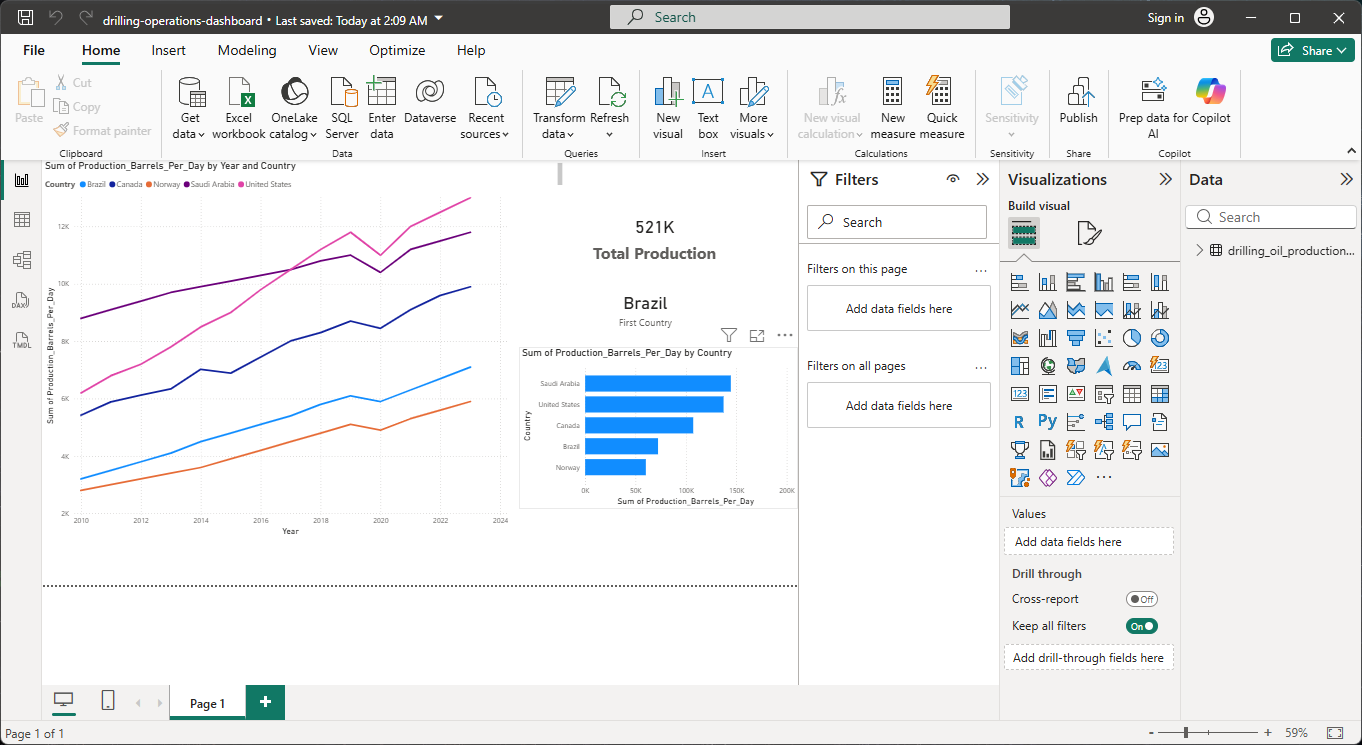

The page's visual inventory and layout, read from the dashboard file:
{"tool":"powerbi","page":{"name":"Page 1","canvas":[1280,720],"ordinal":0},"visuals":[{"type":"card","fields":{"Values":["Min(drilling_oil_production_dataset.Country)"]},"box":[763.6,199.8,516.4,101.6],"z":0},{"type":"textbox","box":[100,100,300,300],"z":1000},{"type":"textbox","box":[99.9,164.2,106.7,235.3],"z":2000},{"type":"textbox","box":[0,0,885.5,55.9],"z":3000},{"type":"card","fields":{"Values":["Sum(drilling_oil_production_dataset.Production_Barrels_Per_Day)"]},"box":[794.1,42.3,485.9,176.1],"z":4000},{"type":"lineChart","fields":{"Y":["Sum(drilling_oil_production_dataset.Production_Barrels_Per_Day)"],"Category":["drilling_oil_production_dataset.Year"],"Series":["drilling_oil_production_dataset.Country"]},"box":[0,0,794.1,641.7],"z":5000},{"type":"clusteredBarChart","fields":{"Category":["drilling_oil_production_dataset.Country"],"Y":["Sum(drilling_oil_production_dataset.Production_Barrels_Per_Day)"]},"box":[807.6,316.6,472.4,274.3],"z":6000}]}

Visuals, with their boxes on the page's 1280x720 design canvas (x1, y1, x2, y2). These are canvas units, not pixel positions in the 1362x745 screenshot, which may show the page scaled, cropped or inside an application window:
card - Min(drilling_oil_production_dataset.Country): region(764, 200, 1280, 301)
textbox: region(100, 100, 400, 400)
textbox: region(100, 164, 207, 400)
textbox: region(0, 0, 886, 56)
card - Sum(drilling_oil_production_dataset.Production_Barrels_Per_Day): region(794, 42, 1280, 218)
lineChart - Sum(drilling_oil_production_dataset.Production_Barrels_Per_Day) x drilling_oil_production_dataset.Year: region(0, 0, 794, 642)
clusteredBarChart - drilling_oil_production_dataset.Country x Sum(drilling_oil_production_dataset.Production_Barrels_Per_Day): region(808, 317, 1280, 591)
